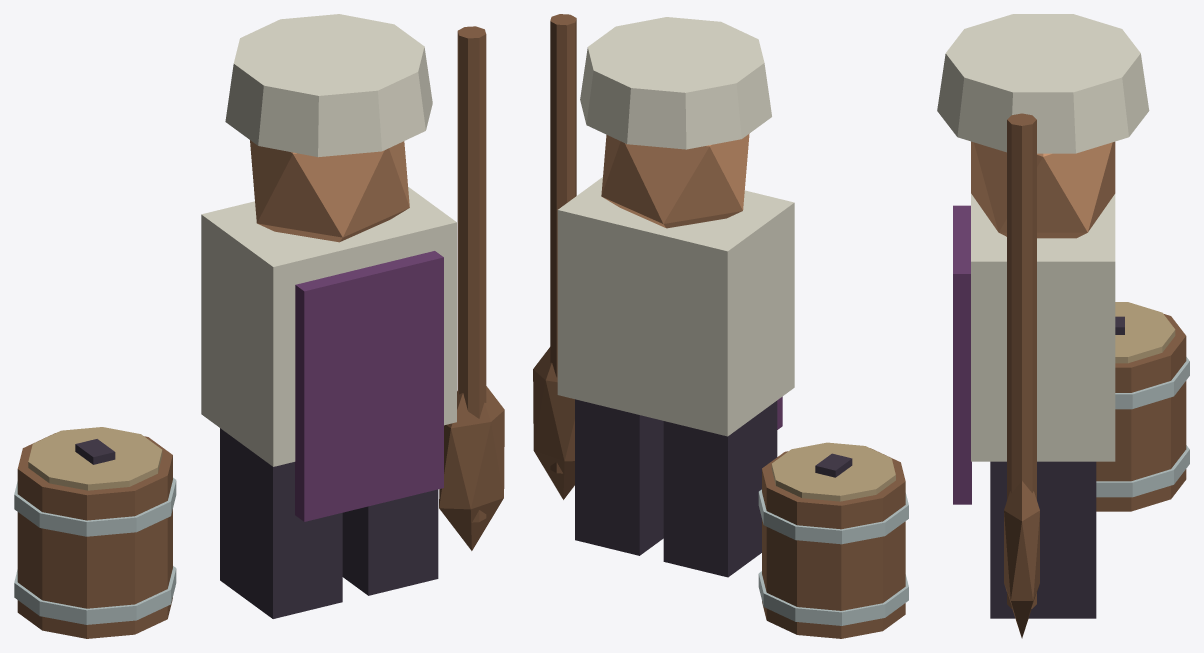
Rendered from brewer.glb.
The picture shows the model from 3 angles, left to right: view 1: azimuth 30°, elevation 25°; view 2: azimuth 150°, elevation 25°; view 3: azimuth 270°, elevation 25°; orthographic projection. The views are drawn at different scales.
Visible parts, largest first — view 1: Cone; view 2: Cone; view 3: Cone.
Part boxes in pixels (x1,y1,x2,y2): Cone: [14, 14, 504, 638]; Cone: [533, 14, 908, 638]; Cone: [937, 14, 1189, 638].
Size of the model in its own units: 1.19 by 1.36 by 0.5955.
